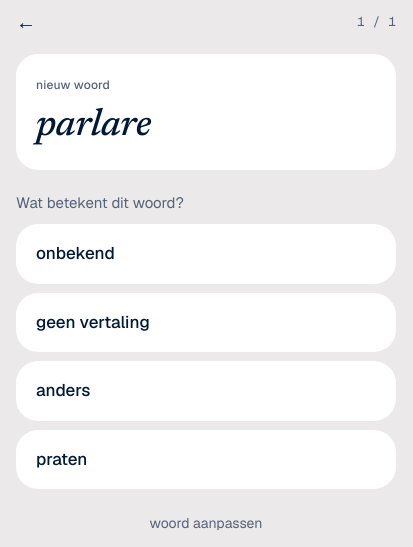
Test: Study – foute antwoorden worden niet overgeslagen › meerkeuze: een fout antwoord pauzeert met correctie-opties (springt niet door)
This screenshot has width=413, height=547.
Click the button "onbekend" at (75, 253), box [16, 224, 396, 284]
Wait 800 ms
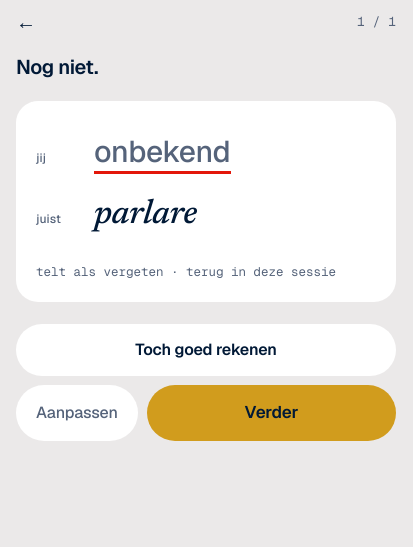
Expected: the button "Aanpassen" is shown, [16, 385, 138, 441]
Expected: the button "Toch goed rekenen" is shown, [16, 324, 396, 376]
Expected: the button "Verder" is shown, [147, 385, 396, 441]
